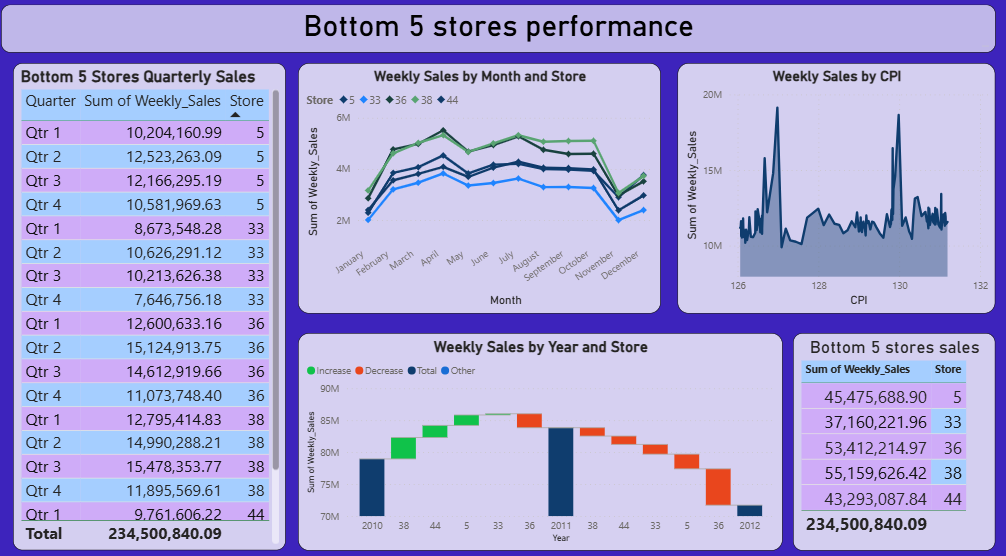

Layout of this report page (visuals, bound fields, positions):
{"tool":"powerbi","page":{"name":"Bottom 5","canvas":[1280,720],"ordinal":1},"visuals":[{"type":"tableEx","title":"Bottom 5 stores sales","fields":{"Values":["Sum(Supermarts DataSet.Weekly_Sales)","Supermarts DataSet.Store"]},"box":[1008.1,426.7,254.9,273.7],"z":0},{"type":"tableEx","title":"Bottom 5 Stores Quarterly Sales","fields":{"Values":["Supermarts DataSet.Date.Variation.Date Hierarchy.Quarter","Sum(Supermarts DataSet.Weekly_Sales)","Supermarts DataSet.Store"]},"box":[26.4,86.8,343.6,613.6],"z":1000},{"type":"lineChart","title":"Weekly Sales by Month and Store","fields":{"Category":["Supermarts DataSet.Date.Variation.Date Hierarchy.Year","Supermarts DataSet.Date.Variation.Date Hierarchy.Quarter","Supermarts DataSet.Date.Variation.Date Hierarchy.Month","Supermarts DataSet.Date.Variation.Date Hierarchy.Day"],"Y":["Sum(Supermarts DataSet.Weekly_Sales)"],"Series":["Supermarts DataSet.Store"]},"box":[385.1,86.8,456.9,315.3],"z":2000},{"type":"textbox","title":"Bottom 5 stores performance","box":[11.3,13.2,1251.7,60.4],"z":3000},{"type":"areaChart","title":"Weekly Sales by CPI","fields":{"Category":["Supermarts DataSet.CPI"],"Y":["Sum(Supermarts DataSet.Weekly_Sales)"]},"box":[862.8,86.8,400.2,315.3],"z":4000},{"type":"waterfallChart","title":" Weekly Sales by Year and Store","fields":{"Breakdown":["Supermarts DataSet.Store"],"Category":["Supermarts DataSet.Date.Variation.Date Hierarchy.Year","Supermarts DataSet.Date.Variation.Date Hierarchy.Quarter","Supermarts DataSet.Date.Variation.Date Hierarchy.Month","Supermarts DataSet.Date.Variation.Date Hierarchy.Day"],"Y":["Sum(Supermarts DataSet.Weekly_Sales)"]},"box":[385.1,426.7,609.8,273.7],"z":5000}]}

Visuals, with their boxes in screenshot pixels (x1, y1, x2, y2), scaled from the page's 1280x720 canvas onto the 1006x556 screenshot:
"Bottom 5 stores sales" tableEx: x1=792 y1=330 x2=993 y2=541
"Bottom 5 Stores Quarterly Sales" tableEx: x1=21 y1=67 x2=291 y2=541
"Weekly Sales by Month and Store" lineChart: x1=303 y1=67 x2=662 y2=311
"Bottom 5 stores performance" textbox: x1=9 y1=10 x2=993 y2=57
"Weekly Sales by CPI" areaChart: x1=678 y1=67 x2=993 y2=311
" Weekly Sales by Year and Store" waterfallChart: x1=303 y1=330 x2=782 y2=541
